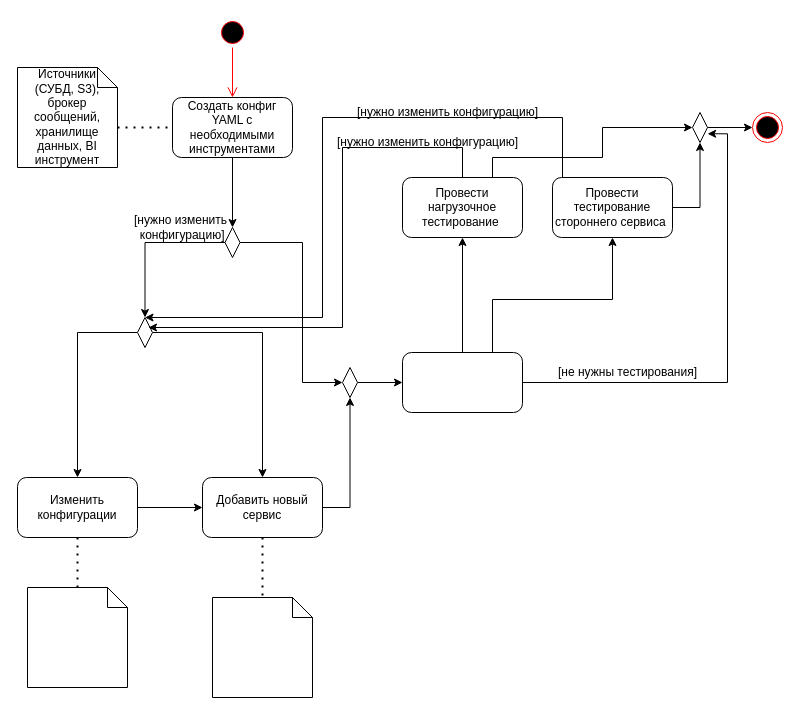
The diagram is 800 pixels wide and 715 high, and some of its shapes have lost their labels. Each missing label, with the centre of its shape:
"Добавить новый сервис для другого типа источника, добавить тестирование" goes at point 262,647.
"Запустить docker-compose.yaml" goes at point 462,382.
"Например, изменить Debezium конфиг, добавить ресурсов для сервиса" goes at point 77,637.
